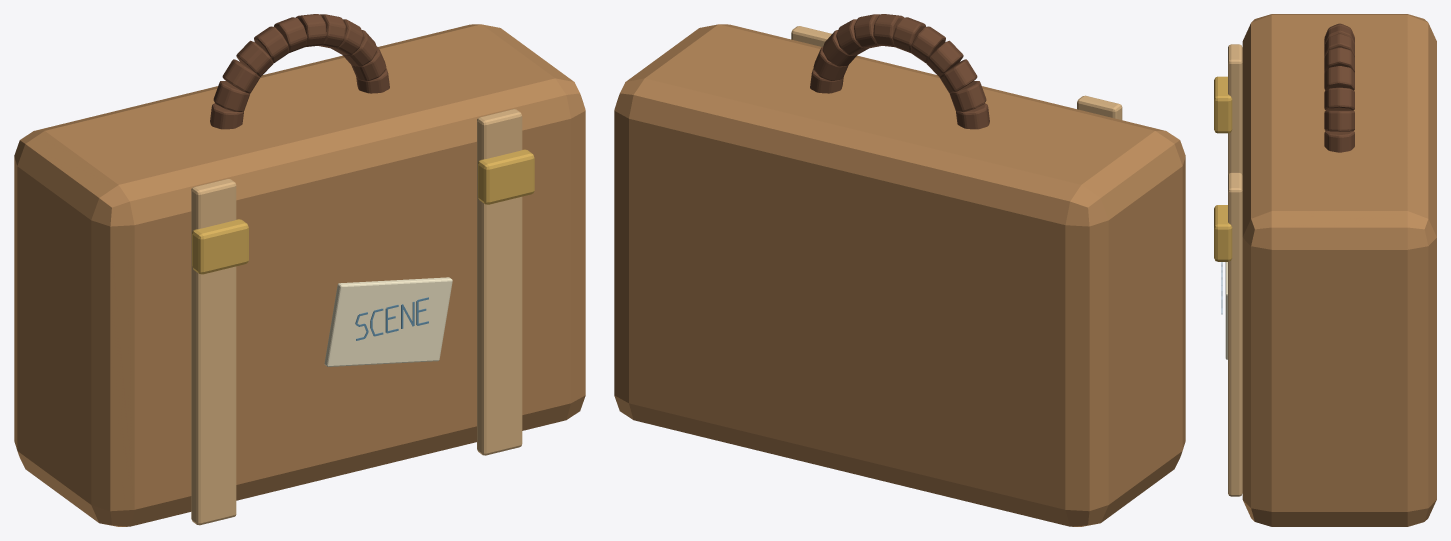
File: P048_travel_suitcase.glb
3 renders of one model, left to right at view 1: azimuth 30°, elevation 25°; view 2: azimuth 150°, elevation 25°; view 3: azimuth 270°, elevation 25°, orthographic. The views are drawn at different scales.
Visible parts, largest first — view 1: P048_case_001, P048_strap_002, P048_strap_004, P048_travel_label_018, P048_latch_005, P048_latch_003, P048_handle_014, P048_handle_016, P048_handle_013, P048_label_019, P048_handle_015, P048_handle_012 (+3 smaller); view 2: P048_case_001, P048_handle_014, P048_handle_016, P048_handle_013, P048_handle_015, P048_handle_012, P048_strap_002, P048_handle_011, P048_handle_010, P048_handle_017; view 3: P048_case_001, P048_strap_004, P048_strap_002, P048_latch_003, P048_latch_005, P048_handle_008, P048_handle_007, P048_handle_009, P048_handle_006, P048_handle_010, P048_handle_011, P048_travel_label_018.
Part boxes in pixels (x1,y1,x2,y2): P048_case_001: (14,24,585,526); P048_strap_002: (191,179,236,525); P048_strap_004: (477,109,522,455); P048_travel_label_018: (324,277,452,366); P048_latch_005: (478,149,534,204); P048_latch_003: (192,219,248,274); P048_handle_014: (236,40,273,76); P048_handle_016: (213,81,249,111); P048_handle_013: (254,26,289,62); P048_label_019: (355,297,428,340); P048_handle_015: (222,59,260,93); P048_handle_012: (274,17,307,52); P048_case_001: (614,24,1185,526); P048_handle_014: (926,40,963,76); P048_handle_016: (950,81,986,111); P048_handle_013: (910,26,945,62); P048_handle_015: (939,59,977,93); P048_handle_012: (892,17,925,52); P048_strap_002: (1077,95,1122,119); P048_handle_011: (873,14,903,47); P048_handle_010: (854,14,881,48); P048_handle_017: (956,103,989,129); P048_case_001: (1242,14,1436,526); P048_strap_004: (1228,172,1242,496); P048_strap_002: (1228,44,1242,175); P048_latch_003: (1214,76,1232,133); P048_latch_005: (1214,205,1232,261); P048_handle_008: (1324,87,1354,110); P048_handle_007: (1324,110,1354,131); P048_handle_009: (1324,66,1354,90); P048_handle_006: (1324,131,1354,152); P048_handle_010: (1324,47,1354,71); P048_handle_011: (1324,33,1354,56); P048_travel_label_018: (1225,262,1227,359).
Bounding box in the file's own units: 0.43 × 0.3592 × 0.1835.
